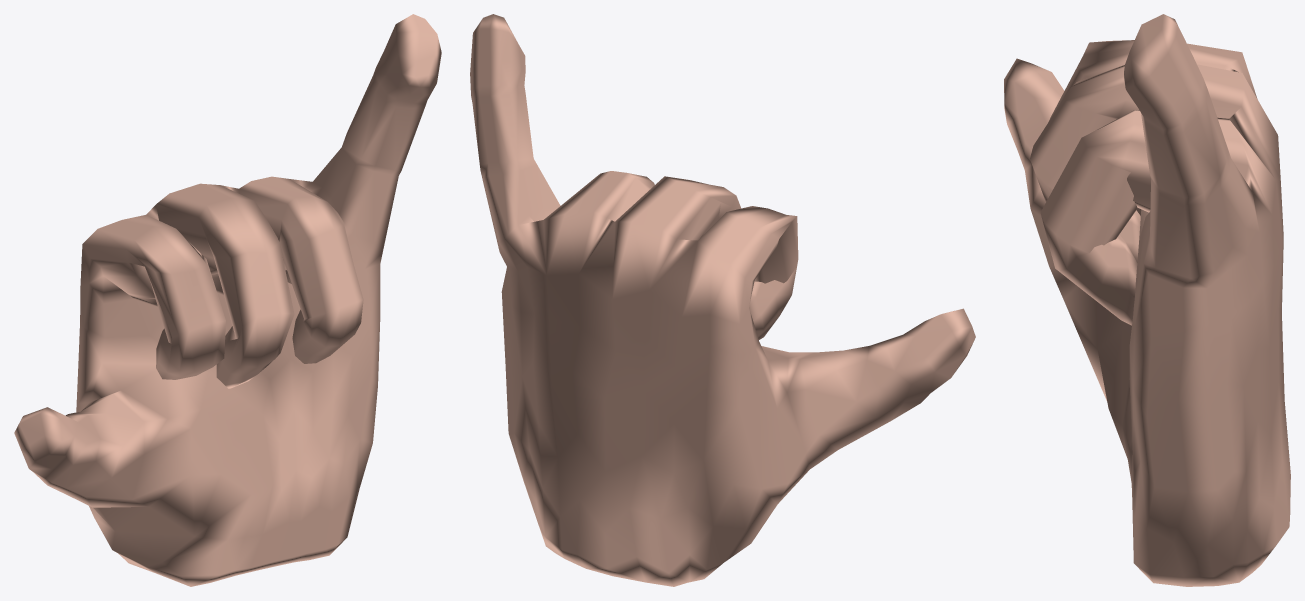
File: MAO_Y.obj
3 renders of one model, left to right at view 1: azimuth 30°, elevation 25°; view 2: azimuth 150°, elevation 25°; view 3: azimuth 270°, elevation 25°, orthographic. The views are drawn at different scales.
Parts seen in each view (by area): view 1: mao_dir polySurface1; view 2: mao_dir polySurface1; view 3: mao_dir polySurface1.
Part boxes in pixels (x1,y1,x2,y2): mao_dir polySurface1: [14, 14, 441, 586]; mao_dir polySurface1: [470, 14, 975, 586]; mao_dir polySurface1: [1004, 14, 1290, 586].
Bounding box in the file's own units: 199 × 208 × 87.
